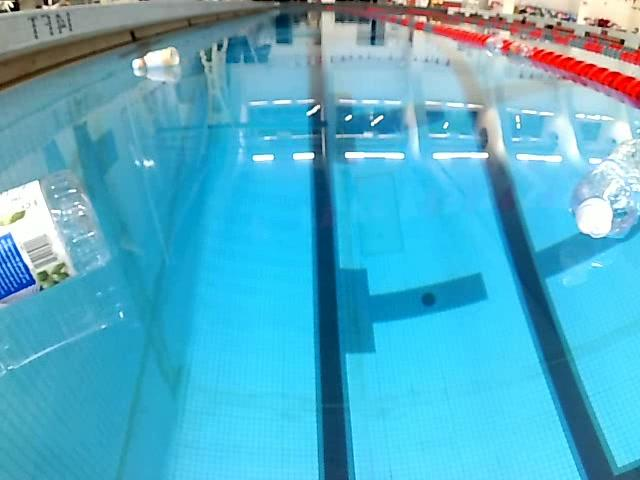Bottle: (0, 160, 118, 311), (558, 129, 640, 241), (125, 43, 185, 76)
